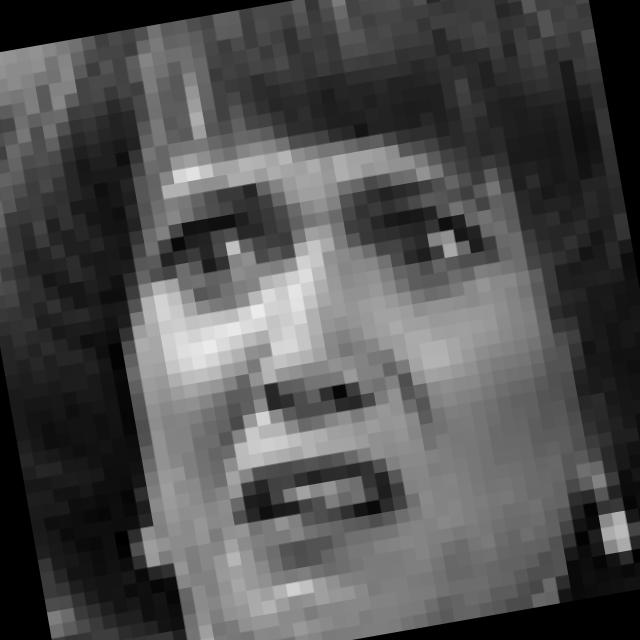disgust: (137, 127, 562, 580)
